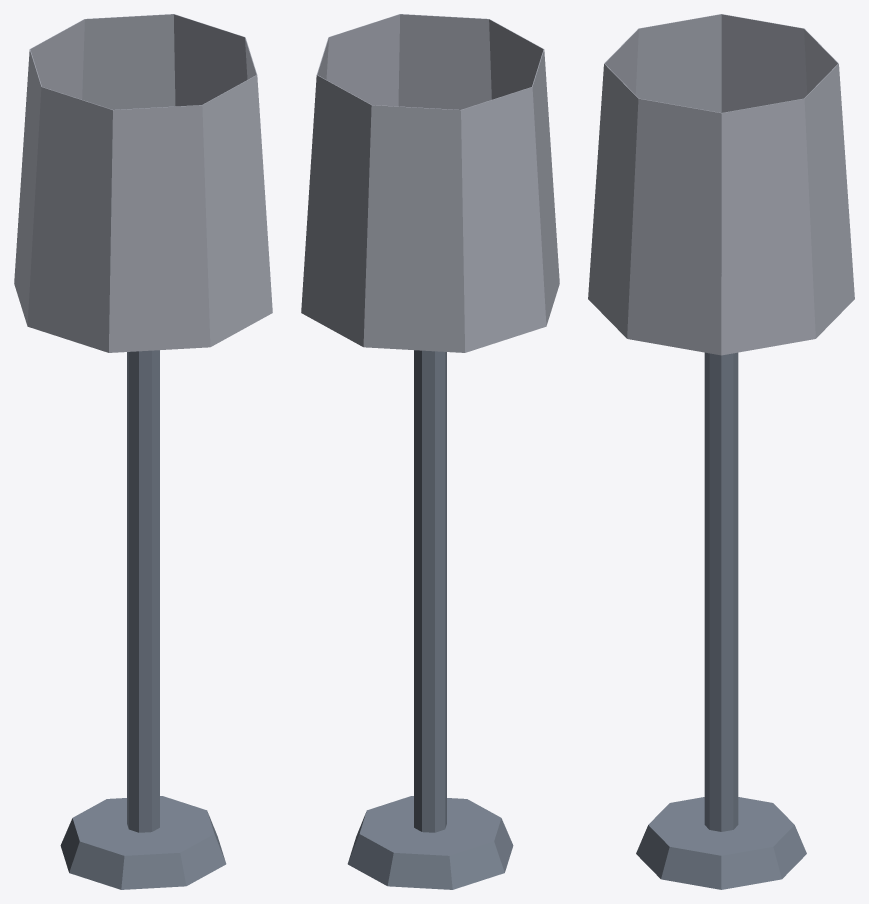
Rendered from Lampe.fbx.
3 views of the same model, side by side, from view 1: azimuth 30°, elevation 25°; view 2: azimuth 150°, elevation 25°; view 3: azimuth 270°, elevation 25° (orthographic).
Visible parts, largest first — view 1: Lampe; view 2: Lampe; view 3: Lampe.
Part boxes in pixels (left/top/right/bottom): Lampe: left=14, top=14, right=272, bottom=889; Lampe: left=301, top=14, right=559, bottom=889; Lampe: left=588, top=14, right=854, bottom=889.
Size of the model in its own units: 141 by 462 by 141.
